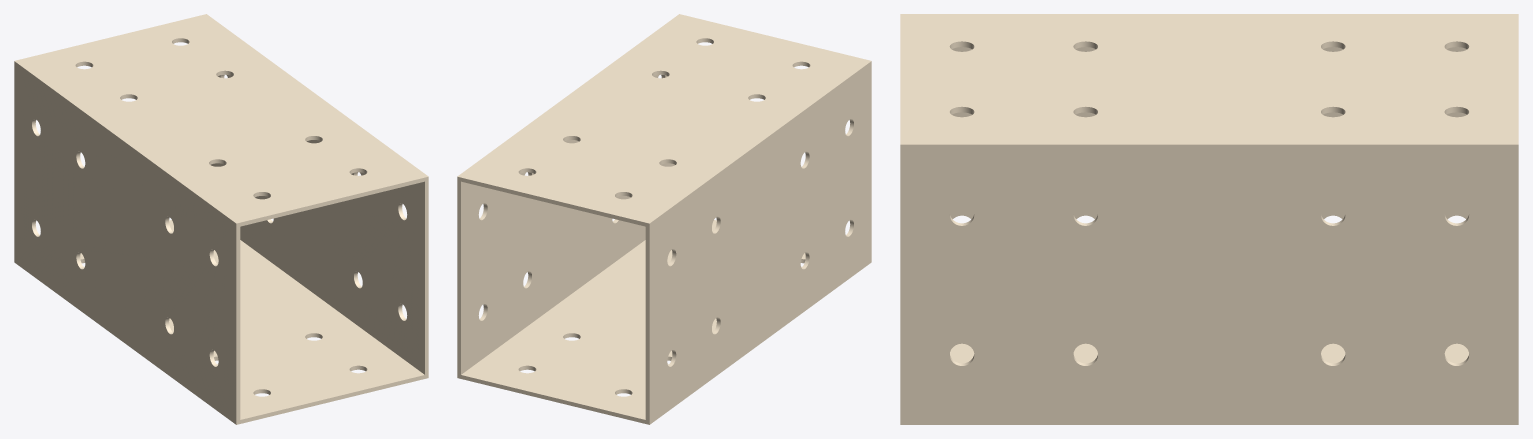
3 views of the same model, side by side, from view 1: azimuth 30°, elevation 25°; view 2: azimuth 150°, elevation 25°; view 3: azimuth 270°, elevation 25° (orthographic). The views are drawn at different scales.
Visible parts, largest first — view 1: <组件#63>_1; view 2: <组件#63>_1; view 3: <组件#63>_1.
Boxes of the visible parts, x1,y1,x2,y2 form: <组件#63>_1: [14, 14, 428, 424]; <组件#63>_1: [457, 14, 871, 424]; <组件#63>_1: [900, 14, 1518, 424].
Size of the model in its own units: 7.87 by 7.87 by 15.75.
